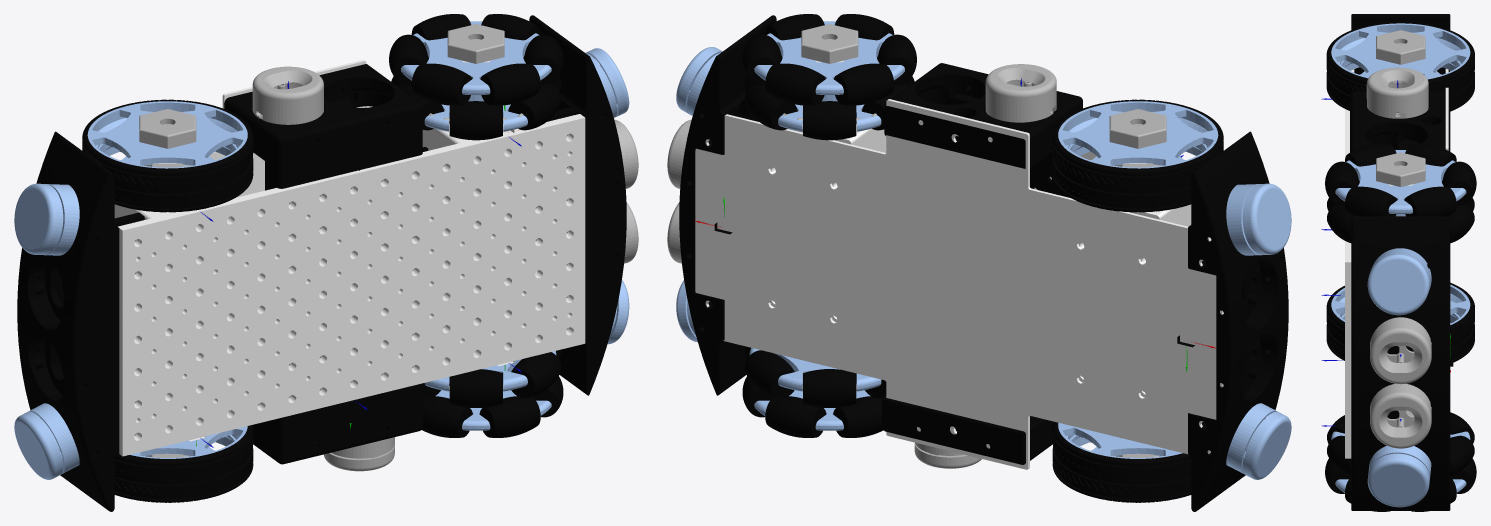
The model's file is roboteil.glb.
3 renders of one model, left to right at view 1: azimuth 30°, elevation 25°; view 2: azimuth 150°, elevation 25°; view 3: azimuth 270°, elevation 25°, orthographic. The views are drawn at different scales.
Parts seen in each view (by area): view 1: CenterPlate Alu, sbFront (×2), sb_center_cont, Tire (×2), Top (×5), sbCenter, Roller_copy4 (×4), rim-outer, Roller_copy3 (×3), Base (×4), Wheel-Hub-Cap (×2), Roller_copy5 (×2) (+9 smaller); view 2: Basplate Pexi, sbFront (×2), Tire (×2), sb_center_cont, Top (×5), Roller_copy1 (×4), rim-outer, Roller_copy6 (×4), sbCenter, Base (×3), Wheel-Hub-Cap (×2), rim_outer_b (+9 smaller); view 3: sbFront (×2), Top (×5), Tire (×2), rim-outer, Base (×5), sb_center_cont, Wheel-Hub-Cap (×2), Roller_copy6 (×3), Roller_copy4 (×4), Roller_copy1 (×3), rim_outer_b, CenterPlate Alu (+6 smaller).
Part boxes in pixels (x1=…): CenterPlate Alu: x1=118, y1=114, x2=585, y2=456; sbFront (×2): x1=17, y1=15, x2=626, y2=511; sb_center_cont: x1=224, y1=64, x2=428, y2=268; Tire (×2): x1=82, y1=99, x2=253, y2=502; Top (×5): x1=14, y1=48, x2=629, y2=479; sbCenter: x1=253, y1=334, x2=423, y2=464; Roller_copy4 (×4): x1=449, y1=63, x2=561, y2=437; rim-outer: x1=87, y1=101, x2=247, y2=168; Roller_copy3 (×3): x1=411, y1=63, x2=561, y2=398; Base (×4): x1=28, y1=84, x2=394, y2=474; Wheel-Hub-Cap (×2): x1=139, y1=24, x2=504, y2=148; Roller_copy5 (×2): x1=422, y1=34, x2=563, y2=437; Basplate Pexi: x1=695, y1=99, x2=1223, y2=469; sbFront (×2): x1=679, y1=15, x2=1288, y2=511; Tire (×2): x1=1052, y1=99, x2=1223, y2=502; sb_center_cont: x1=884, y1=63, x2=1082, y2=197; Top (×5): x1=676, y1=47, x2=1291, y2=479; Roller_copy1 (×4): x1=744, y1=63, x2=856, y2=437; rim-outer: x1=1058, y1=101, x2=1218, y2=168; Roller_copy6 (×4): x1=742, y1=34, x2=883, y2=437; sbCenter: x1=882, y1=395, x2=1053, y2=464; Base (×3): x1=985, y1=81, x2=1277, y2=474; Wheel-Hub-Cap (×2): x1=801, y1=24, x2=1166, y2=148; rim_outer_b: x1=754, y1=21, x2=904, y2=93; sbFront (×2): x1=1351, y1=14, x2=1450, y2=510; Top (×5): x1=1366, y1=67, x2=1431, y2=507; Tire (×2): x1=1326, y1=22, x2=1474, y2=362; rim-outer: x1=1331, y1=23, x2=1470, y2=79; Base (×5): x1=1366, y1=80, x2=1431, y2=476; sb_center_cont: x1=1350, y1=91, x2=1445, y2=152; Wheel-Hub-Cap (×2): x1=1376, y1=30, x2=1425, y2=186; Roller_copy6 (×3): x1=1404, y1=186, x2=1474, y2=443; Roller_copy4 (×4): x1=1325, y1=161, x2=1358, y2=493; Roller_copy1 (×3): x1=1442, y1=161, x2=1476, y2=493; rim_outer_b: x1=1335, y1=150, x2=1466, y2=212; CenterPlate Alu: x1=1345, y1=69, x2=1354, y2=458.
Bounding box in the file's own units: 388 × 245 × 101.
